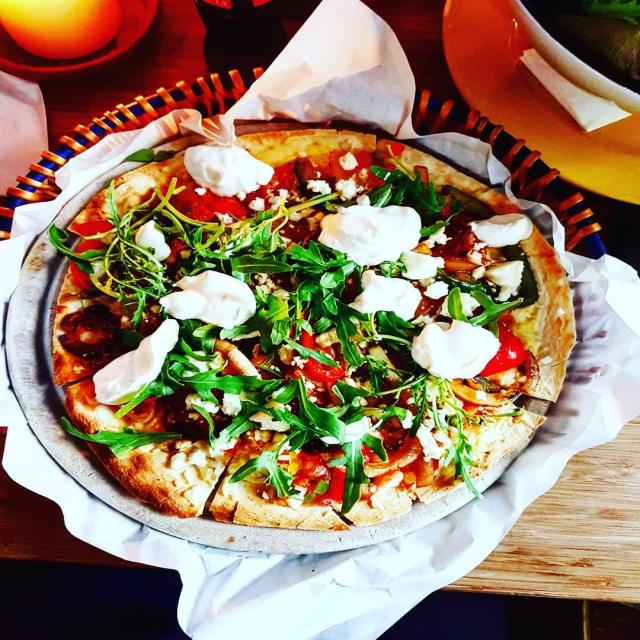pizza: (51, 127, 580, 533)
